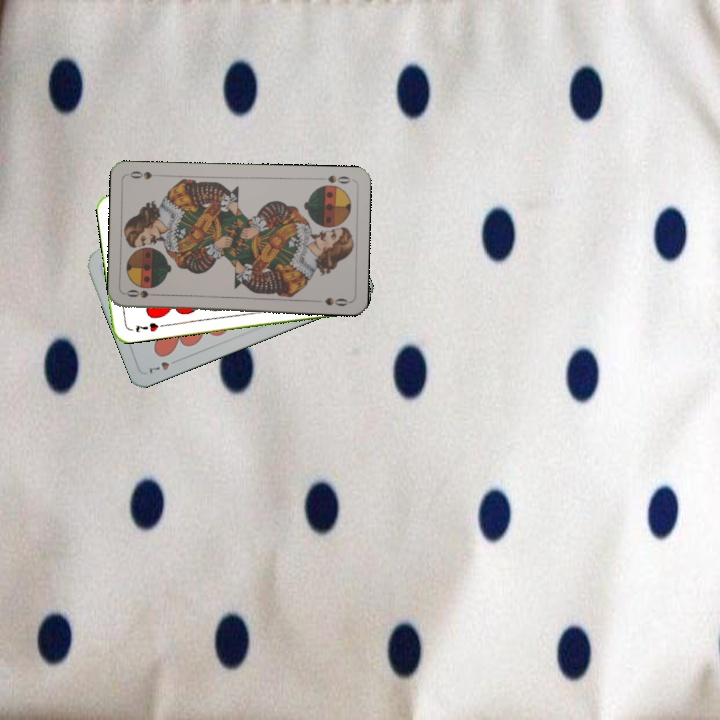H7: (145, 355, 182, 376), (132, 318, 161, 335)
SO: (122, 286, 163, 301), (314, 171, 353, 186)
